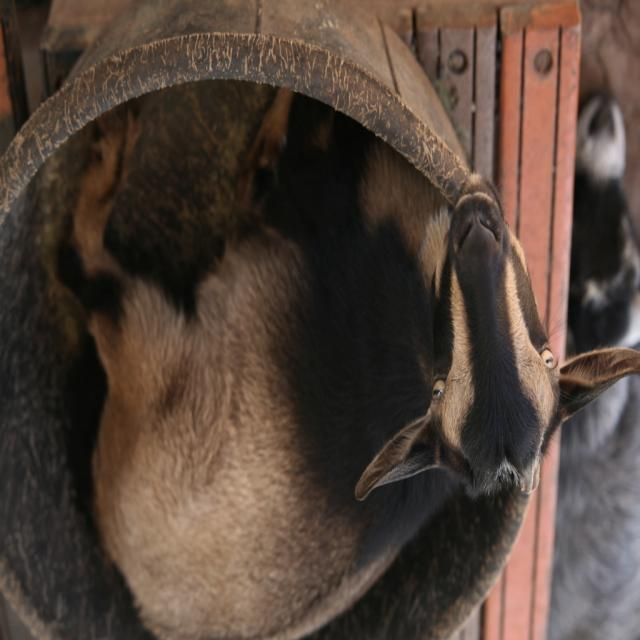Goat: (54, 82, 638, 640), (545, 93, 639, 640)
